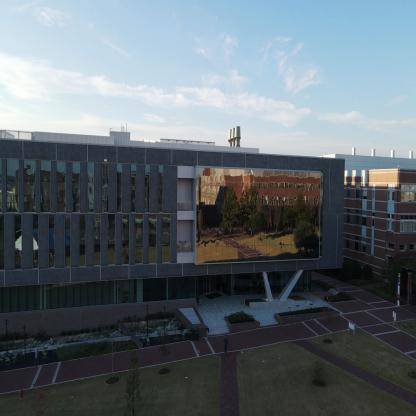EB-1: (355, 148, 415, 312)
Fitts- Woolard: (0, 123, 351, 346)
